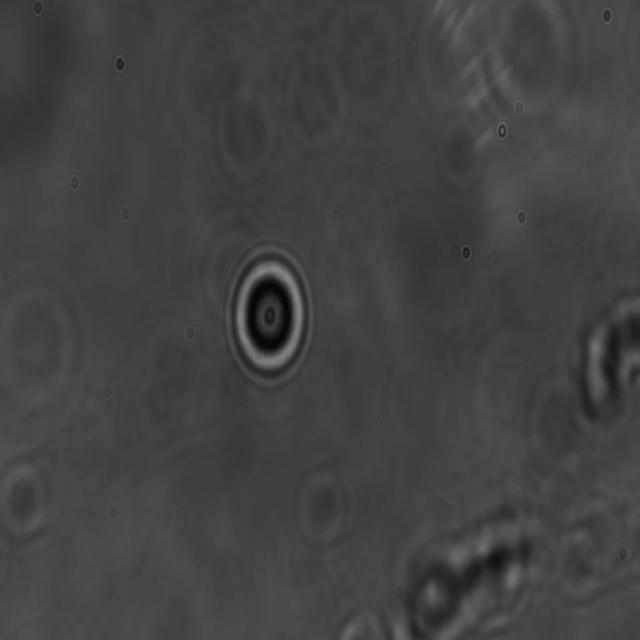LCELL: (221, 239, 318, 393)
